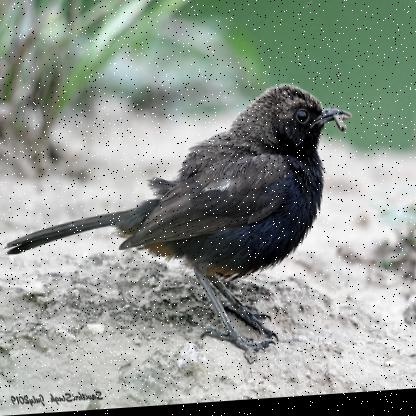Burung: (6, 83, 352, 374)
